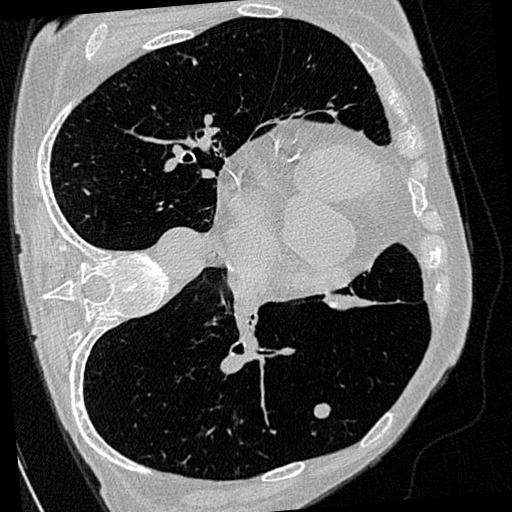nodule: (312, 401, 335, 424)
